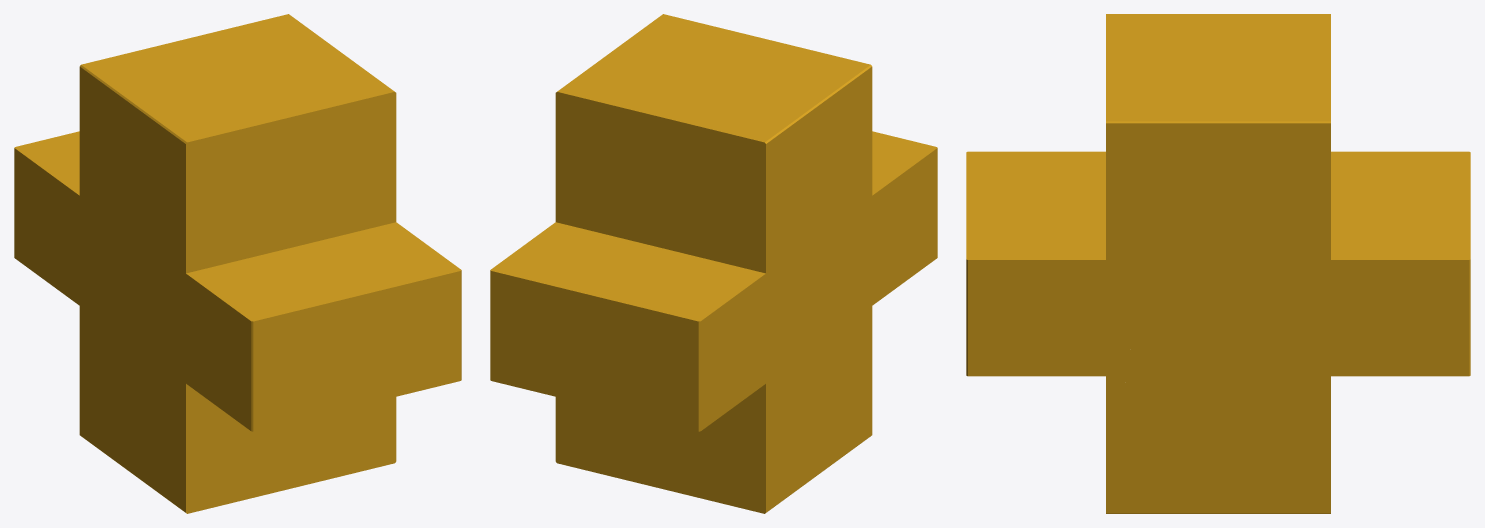
File: takoz-soosan-sb121-ts-p-top-buffer-02.glb
The picture shows the model from 3 angles, left to right: view 1: azimuth 30°, elevation 25°; view 2: azimuth 150°, elevation 25°; view 3: azimuth 270°, elevation 25°; orthographic projection. The views are drawn at different scales.
Parts seen in each view (by area): view 1: body; view 2: body; view 3: body.
Part boxes in pixels (box(x1,y1,x2,y2)): body: box(14, 14, 461, 513); body: box(490, 14, 937, 513); body: box(966, 14, 1470, 513).
Bounding box in the file's own units: 0.16 × 0.27 × 0.314.
